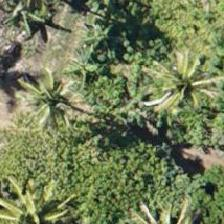coconut_tree: (134, 43, 223, 133), (0, 163, 77, 223)
